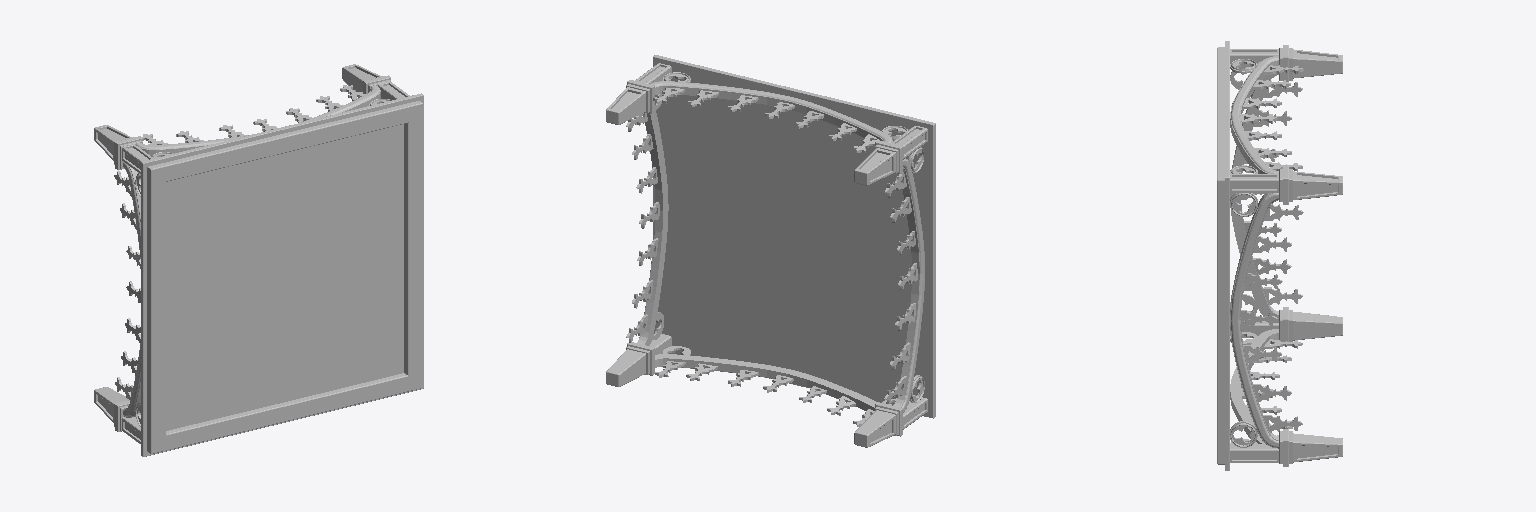
File: gothic_coffee_table_4k.obj
The picture shows the model from 3 angles: view 1: azimuth 30°, elevation 25°; view 2: azimuth 150°, elevation 25°; view 3: azimuth 270°, elevation 25°; orthographic projection.
Parts seen in each view (by area): view 1: gothic_coffee_table; view 2: gothic_coffee_table; view 3: gothic_coffee_table.
Boxes of the visible parts, box(x1,y1,x2,y2) form: gothic_coffee_table: box(94, 64, 423, 456); gothic_coffee_table: box(606, 55, 935, 447); gothic_coffee_table: box(1217, 41, 1342, 470).
Bounding box in the file's own units: 1.44 × 1.44 × 0.5588.